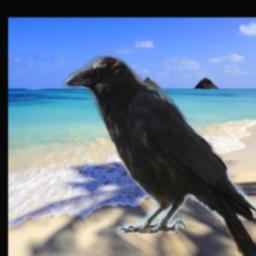Crow: (64, 53, 256, 256)
